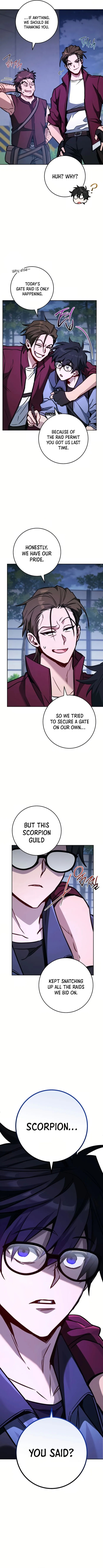bubbles: (14, 1089, 90, 1175), (15, 1406, 88, 1490), (41, 685, 97, 750), (37, 956, 94, 1013), (37, 406, 90, 465), (40, 153, 99, 205), (13, 527, 63, 584), (10, 806, 63, 857), (10, 263, 55, 318), (15, 0, 60, 52)
